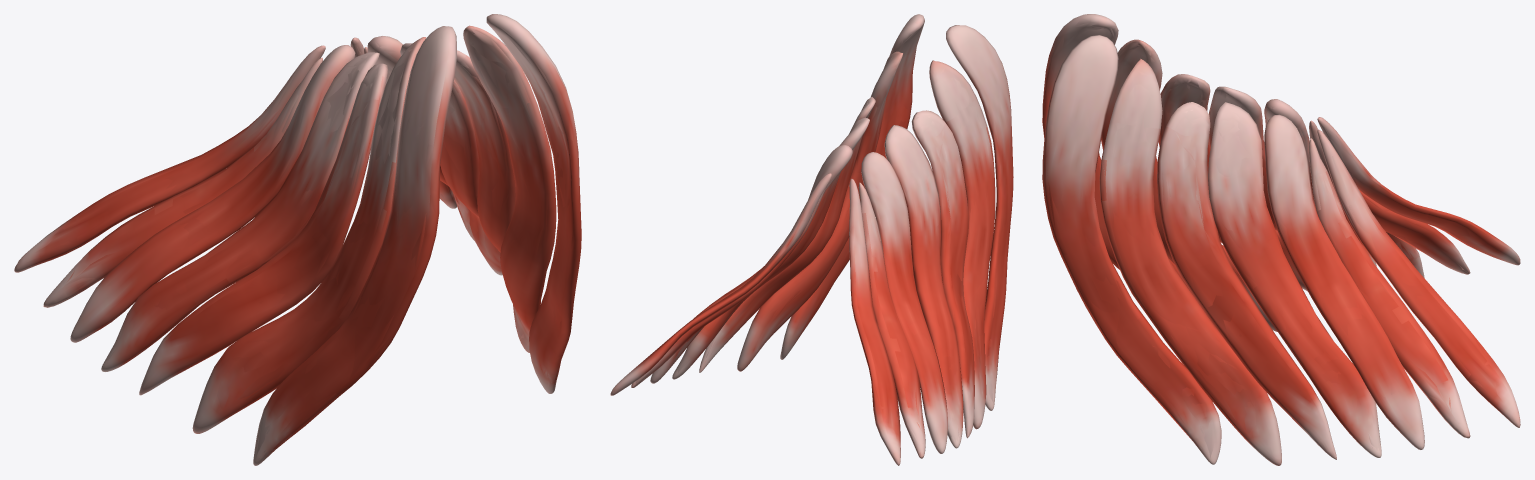
File: serratus dorsalis cranialis.fbx
3 renders of one model, left to right at view 1: azimuth 30°, elevation 25°; view 2: azimuth 150°, elevation 25°; view 3: azimuth 270°, elevation 25°, orthographic. The views are drawn at different scales.
Visible parts, largest first — view 1: serratus dorsalis cranialis, serratus dorsalis cranialis low; view 2: serratus dorsalis cranialis, serratus dorsalis cranialis low; view 3: serratus dorsalis cranialis, serratus dorsalis cranialis low.
Boxes of the visible parts, <box> form: serratus dorsalis cranialis: <box>14,14,581,465</box>; serratus dorsalis cranialis low: <box>20,14,581,461</box>; serratus dorsalis cranialis: <box>610,14,1013,465</box>; serratus dorsalis cranialis low: <box>612,15,1013,461</box>; serratus dorsalis cranialis: <box>1042,14,1520,465</box>; serratus dorsalis cranialis low: <box>1042,14,1520,459</box>.
Bounding box in the file's own units: 34.58 × 36.79 × 41.98.
